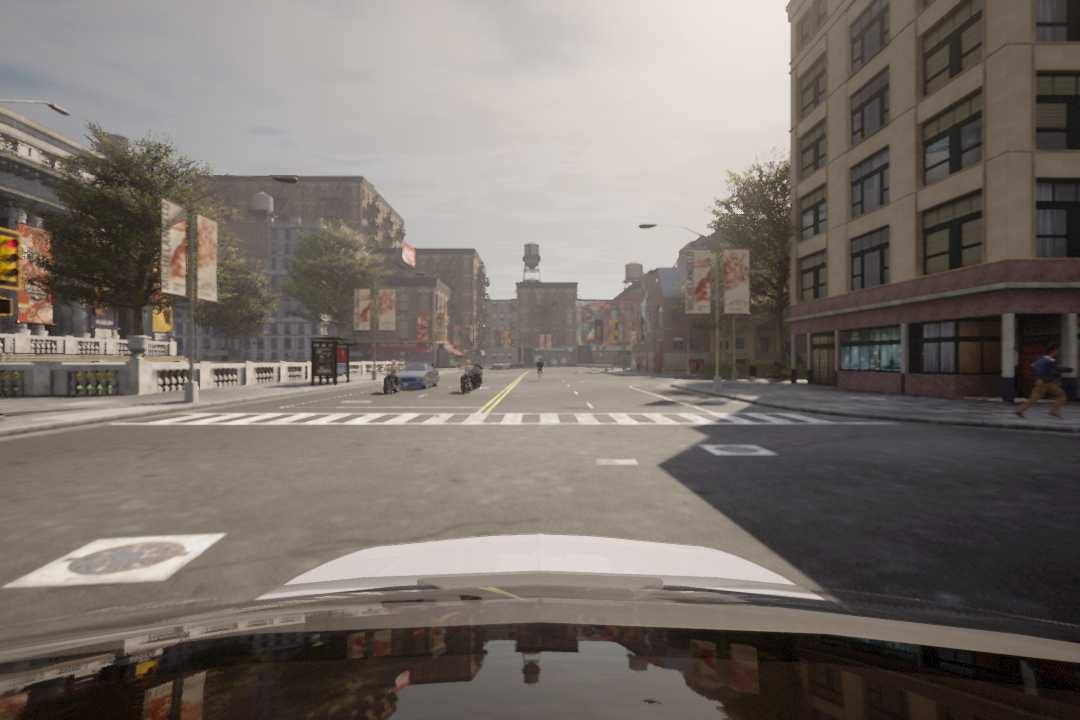walkside: (132, 407, 868, 437)
